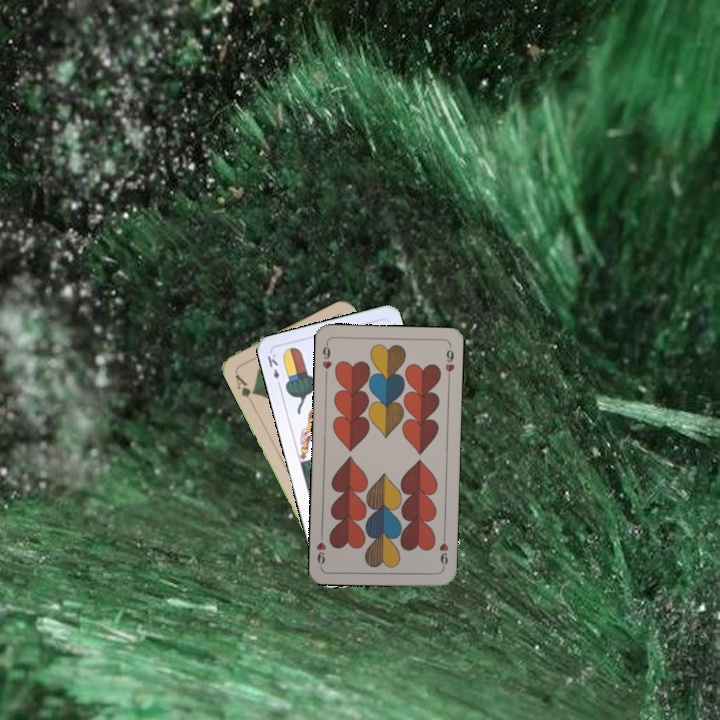EK: (263, 349, 284, 390)
GA: (231, 368, 258, 406)
H9: (318, 339, 334, 379), (435, 531, 451, 571)
